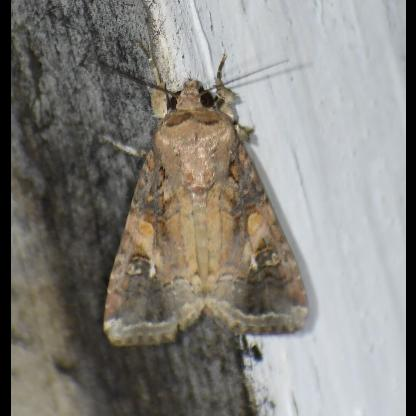Fall Armyworm Moth: (97, 51, 313, 354)
